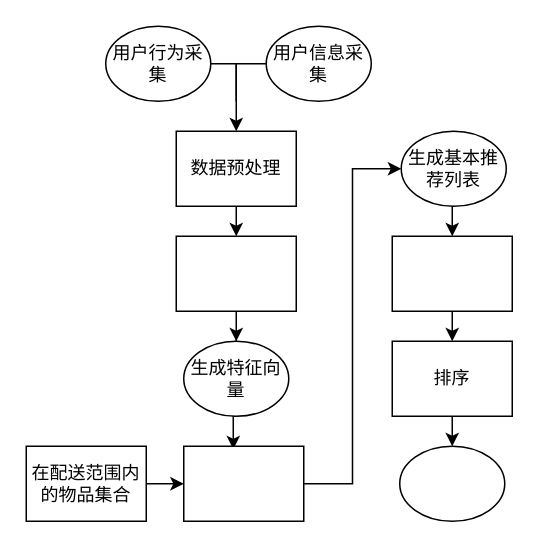
This 539x548 diagram has some shape labels left out. Here are the shapes that lost their labels. From the top down, the centre of each, then its label:
the point at 235,273: 加权计算
the point at 451,273: 筛选结果
the point at 243,483: 推荐算法进行推荐
the point at 451,483: 生成最终推荐列表
